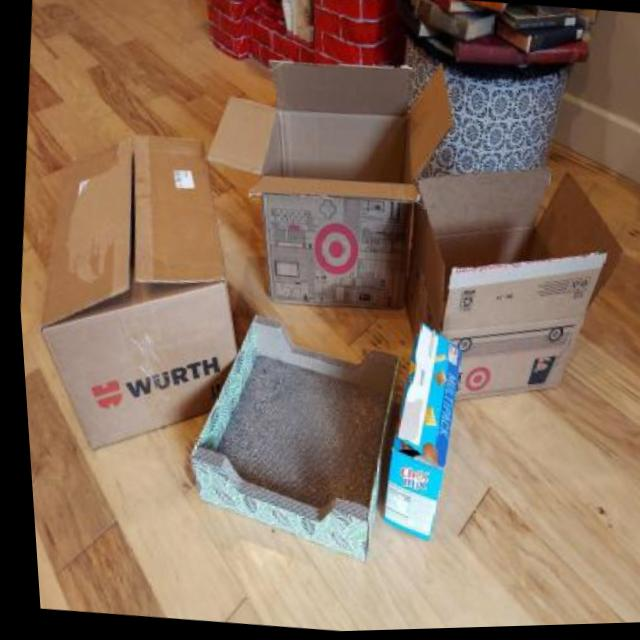box: (7, 122, 269, 485), (178, 37, 473, 338), (375, 144, 640, 449), (136, 292, 419, 574), (353, 320, 480, 556)
